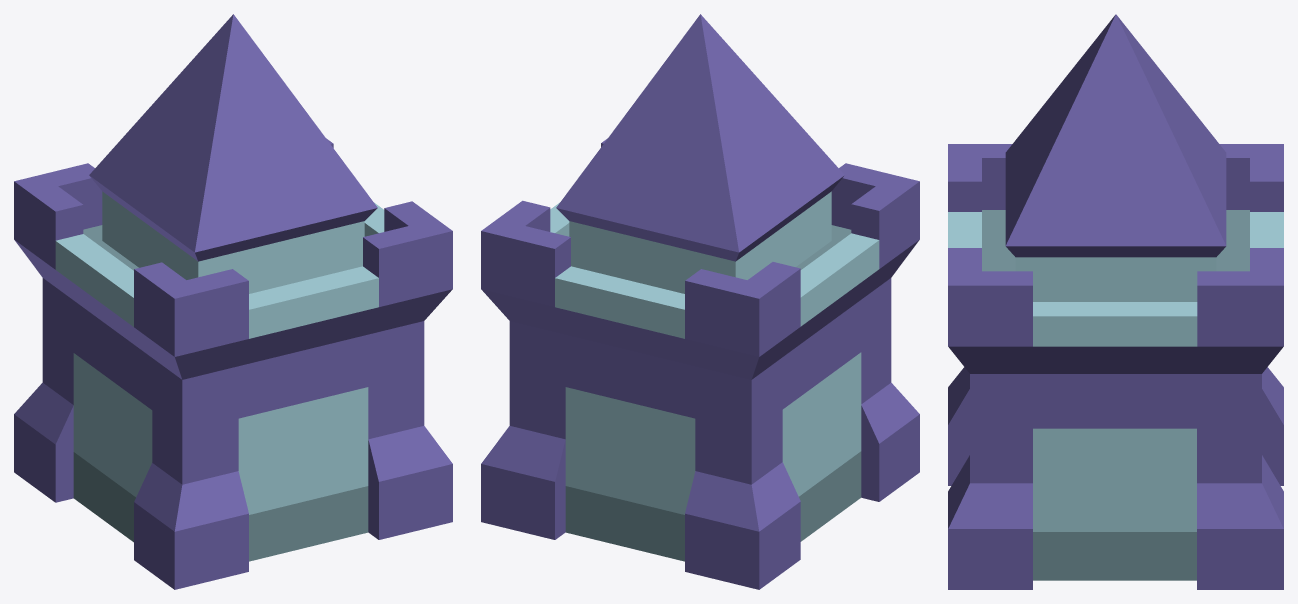
File: StarTower.fbx
3 renders of one model, left to right at view 1: azimuth 30°, elevation 25°; view 2: azimuth 150°, elevation 25°; view 3: azimuth 270°, elevation 25°, orthographic. The views are drawn at different scales.
Visible parts, largest first — view 1: towerSquare_sampleB; view 2: towerSquare_sampleB; view 3: towerSquare_sampleB.
Part boxes in pixels (left/top/right/bottom): towerSquare_sampleB: left=14, top=14, right=452, bottom=589; towerSquare_sampleB: left=481, top=14, right=919, bottom=589; towerSquare_sampleB: left=948, top=14, right=1283, bottom=589.
Bounding box in the file's own units: 39.37 × 65.35 × 39.37.
